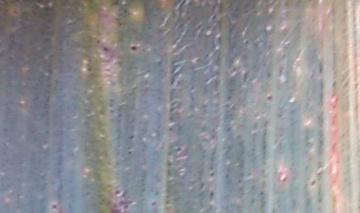tarspot: (118, 198, 136, 210), (10, 6, 20, 16), (129, 43, 140, 52), (208, 188, 215, 202), (309, 177, 317, 188), (165, 157, 173, 168), (266, 93, 274, 103), (102, 44, 110, 53), (113, 188, 122, 196), (111, 1, 121, 8), (50, 202, 58, 210), (150, 200, 158, 208), (127, 134, 136, 141), (243, 38, 250, 46), (126, 150, 135, 156), (174, 146, 183, 152), (95, 38, 101, 45), (167, 126, 173, 133), (209, 171, 215, 177)
